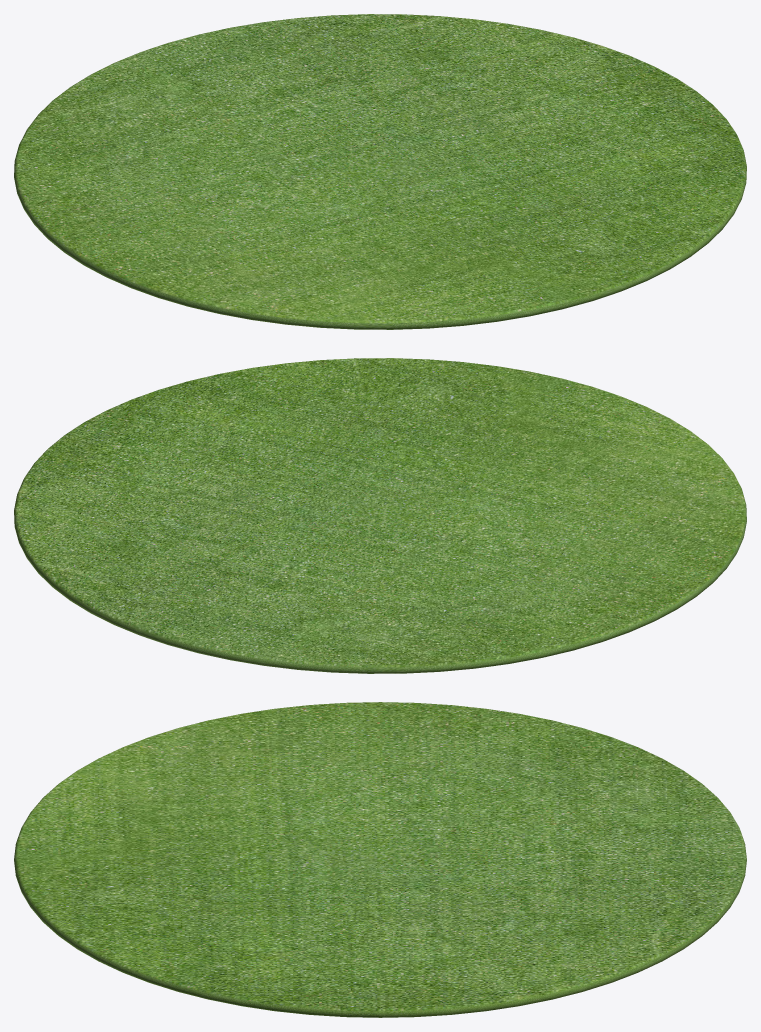
The model's file is grassCarpet.glb.
3 renders of one model, top to bottom at view 1: azimuth 30°, elevation 25°; view 2: azimuth 150°, elevation 25°; view 3: azimuth 270°, elevation 25°, orthographic.
Parts seen in each view (by area): view 1: Cylinder; view 2: Cylinder; view 3: Cylinder.
Part boxes in pixels (<box>): Cylinder: <box>14,14,746,329</box>; Cylinder: <box>14,358,746,673</box>; Cylinder: <box>14,702,746,1017</box>.
Size of the model in its own units: 0.773 by 0.01 by 0.773.
Materials: 1 (1 with a texture image).
